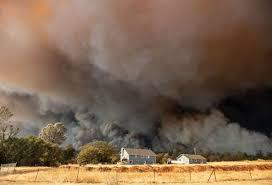smoke: (0, 0, 272, 158)
